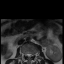CCS_normal: (27, 52, 30, 59)
LFS_normal: (32, 52, 34, 58)
LLS_normal: (30, 52, 32, 58)
RFS_normal: (24, 52, 26, 58)
RLS_stenosis: (26, 52, 28, 58)
